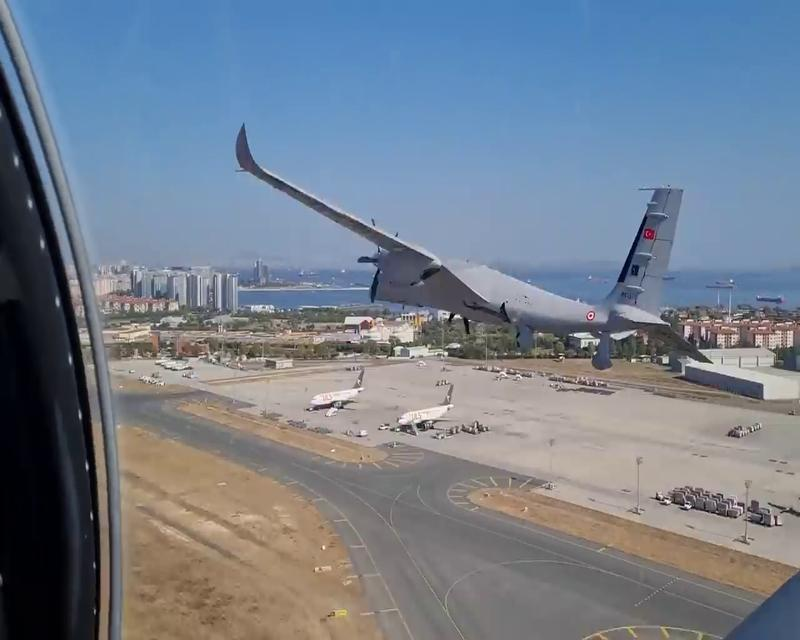UAV: (235, 123, 713, 371)
